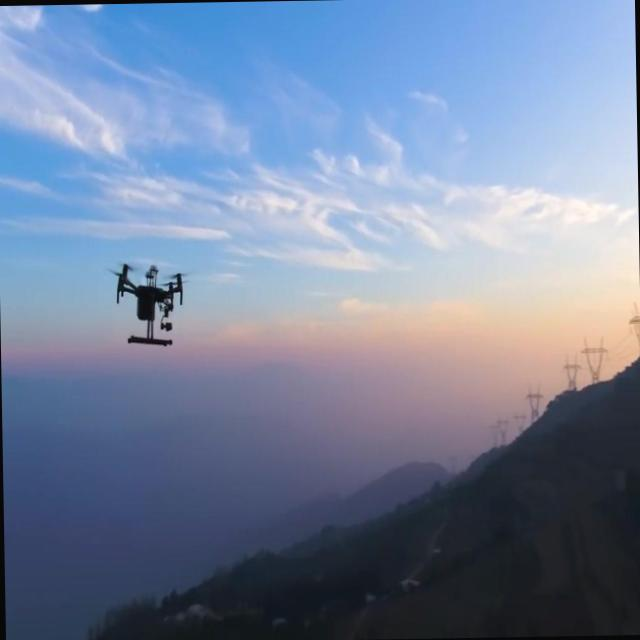drone: (104, 258, 190, 350)
